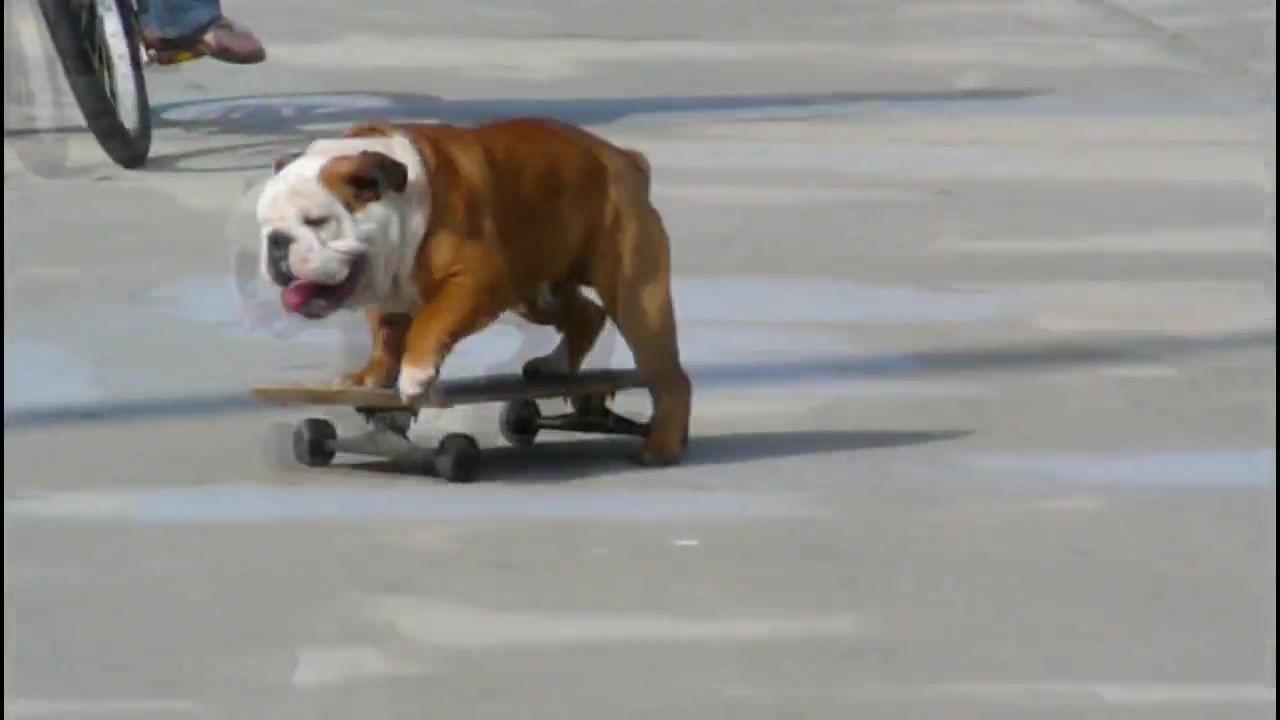dog: (254, 112, 697, 466)
